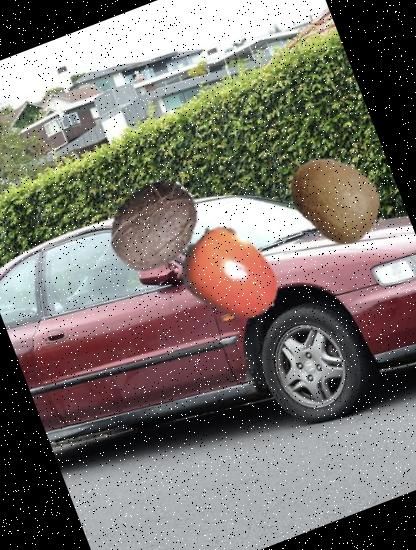Cocos: (87, 160, 215, 288)
Kaki: (163, 206, 300, 343)
Kiwi: (274, 138, 398, 262)
